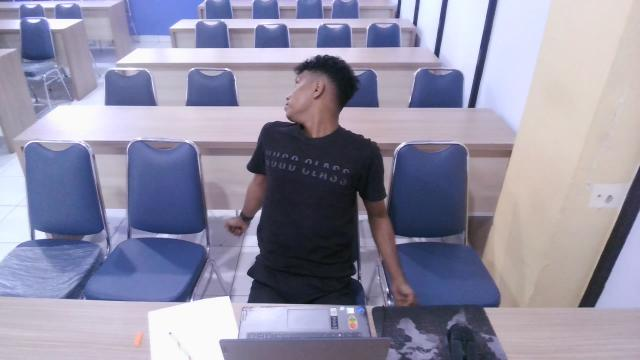Turning_Back: (241, 44, 398, 250)
